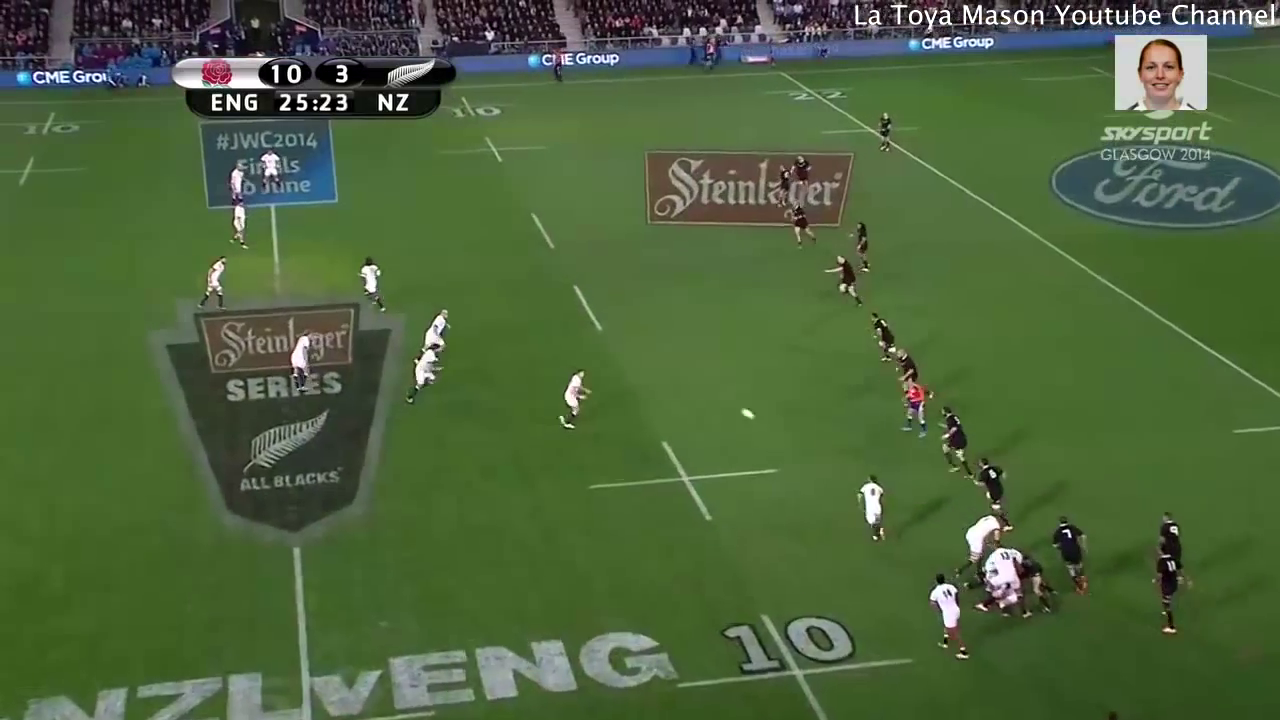10_metre: (667, 602, 925, 720), (576, 432, 780, 529), (433, 131, 554, 169), (1, 106, 114, 140), (1, 148, 87, 192), (423, 87, 519, 121)
ball: (733, 398, 760, 428)
player: (921, 567, 977, 665), (1045, 507, 1101, 605), (976, 533, 1029, 623), (1150, 541, 1187, 646), (968, 452, 1016, 530), (957, 505, 1005, 579), (1017, 550, 1061, 629), (816, 245, 868, 311), (549, 362, 596, 434), (348, 252, 393, 318), (933, 401, 972, 477), (1154, 512, 1195, 582), (277, 327, 320, 392), (401, 340, 444, 405), (411, 304, 456, 365), (854, 472, 889, 549), (193, 248, 232, 316), (898, 373, 930, 445), (850, 216, 882, 277), (224, 199, 257, 256), (887, 342, 926, 389), (785, 195, 818, 249), (863, 309, 895, 364), (254, 144, 285, 192), (766, 158, 796, 204), (874, 109, 897, 158), (792, 152, 815, 193), (227, 159, 247, 205)
